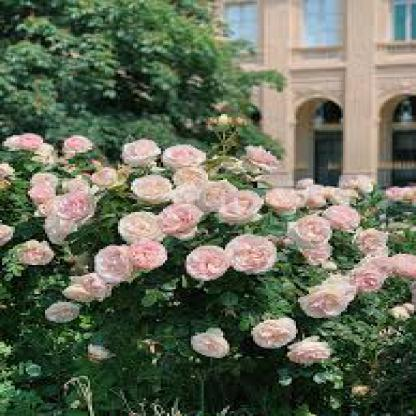Rose-Mawar: (1, 126, 265, 300), (259, 174, 411, 364), (181, 321, 233, 366), (40, 301, 78, 324)
